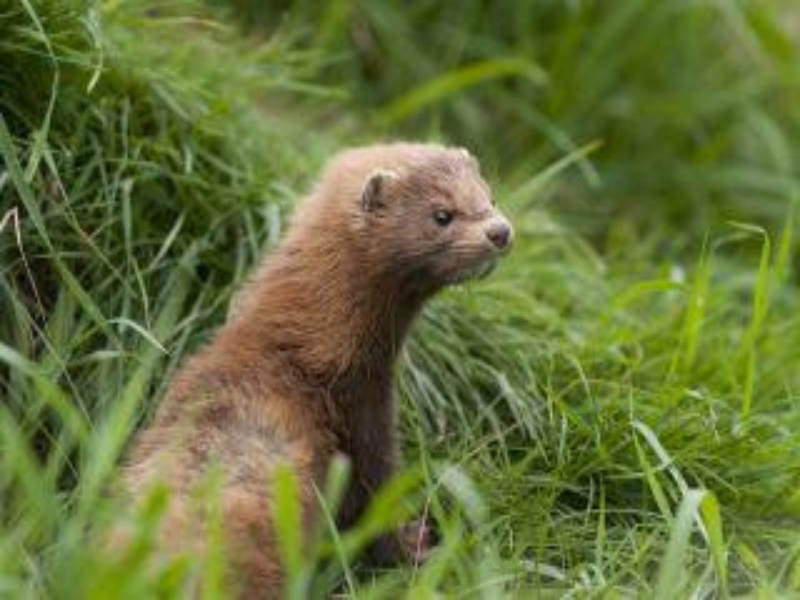minkish: (78, 129, 518, 600)
